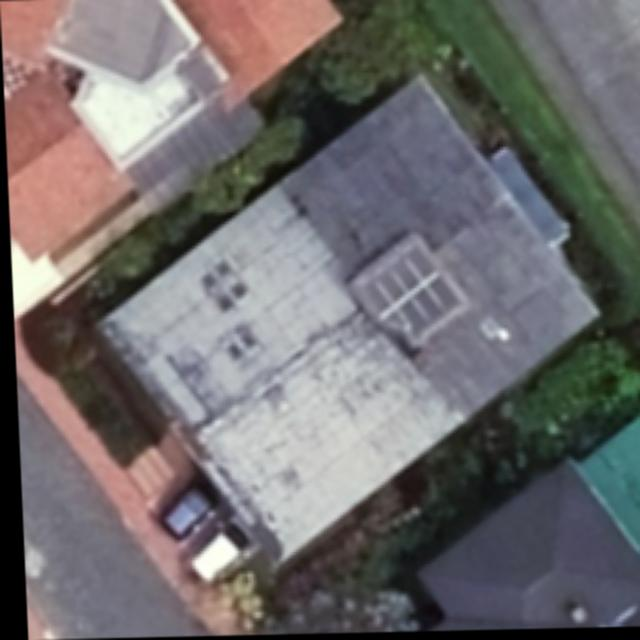Batiment: (95, 79, 593, 567), (3, 70, 133, 259), (176, 0, 342, 108), (47, 0, 200, 82), (1, 0, 67, 61)
